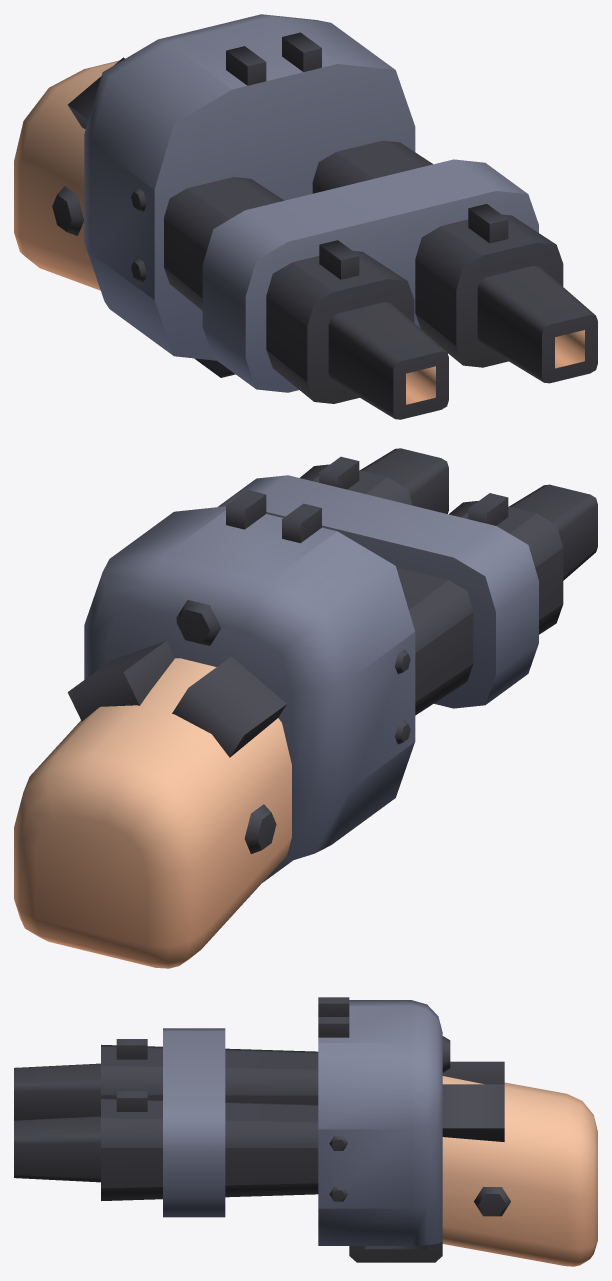
File: blaster-repeater.glb
3 renders of one model, top to bottom at view 1: azimuth 30°, elevation 25°; view 2: azimuth 150°, elevation 25°; view 3: azimuth 270°, elevation 25°, orthographic. The views are drawn at different scales.
Visible parts, largest first — view 1: blaster-repeater, Group; view 2: blaster-repeater, Group; view 3: blaster-repeater, Group.
Part boxes in pixels (left/top/right/bottom): blaster-repeater: left=14, top=14, right=597, bottom=419; Group: left=202, top=159, right=538, bottom=392; blaster-repeater: left=14, top=448, right=597, bottom=968; Group: left=218, top=475, right=538, bottom=708; blaster-repeater: left=14, top=997, right=597, bottom=1266; Group: left=163, top=1028, right=225, bottom=1217.
Size of the model in its own units: 0.7875 by 0.85 by 1.88.
Materials: 1 (1 with a texture image).
